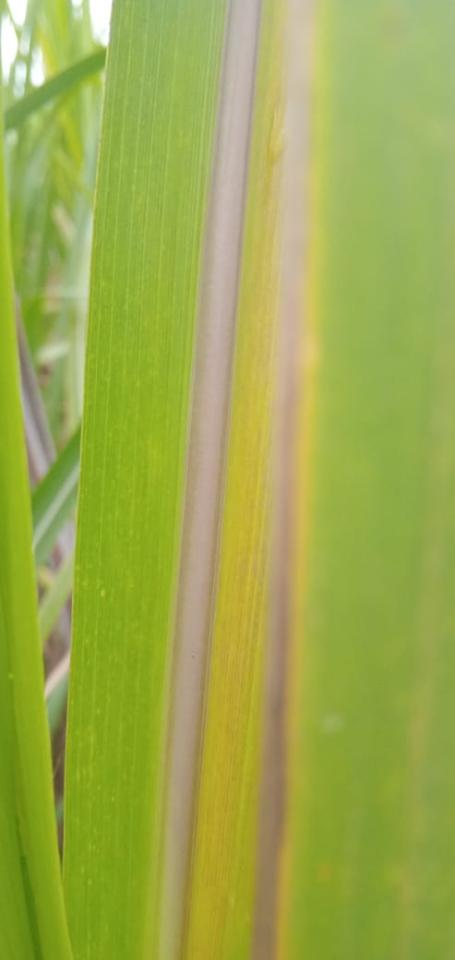Yellow: (189, 0, 293, 959), (280, 0, 322, 959)
